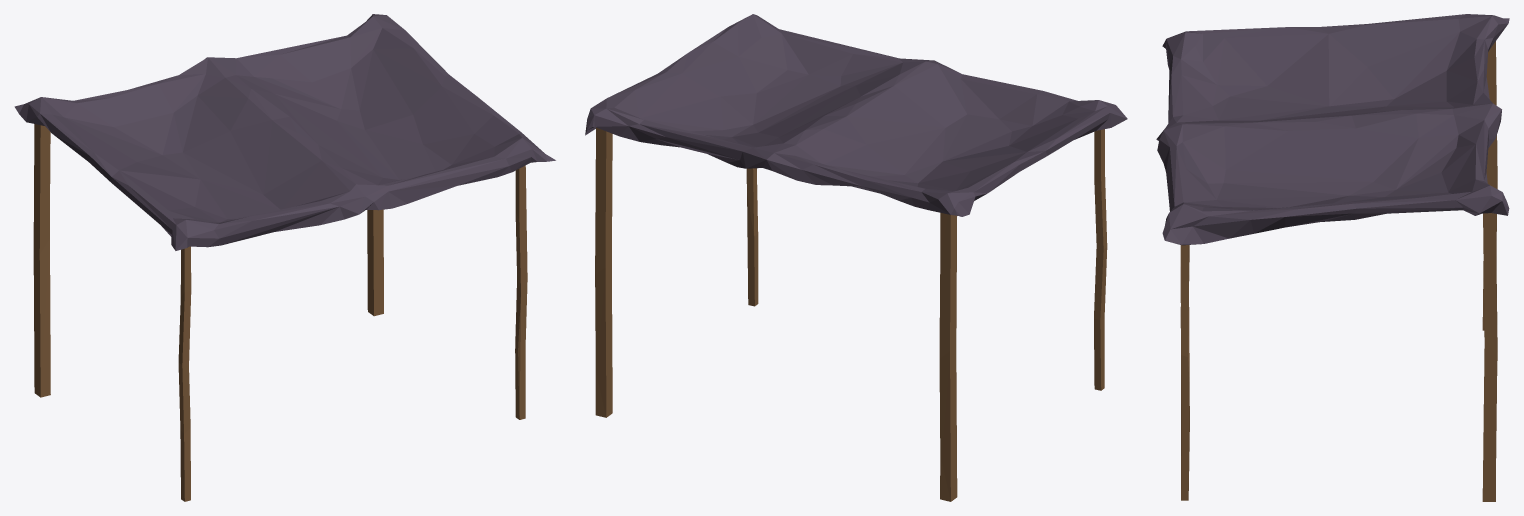
File: Market_Roof_03.fbx
3 renders of one model, left to right at view 1: azimuth 30°, elevation 25°; view 2: azimuth 150°, elevation 25°; view 3: azimuth 270°, elevation 25°, orthographic. The views are drawn at different scales.
Visible parts, largest first — view 1: Market_Roof_03; view 2: Market_Roof_03; view 3: Market_Roof_03.
Boxes of the visible parts, x1,y1,x2,y2 form: Market_Roof_03: [14, 14, 555, 501]; Market_Roof_03: [585, 14, 1127, 501]; Market_Roof_03: [1156, 14, 1509, 501].
Size of the model in its own units: 2.72 by 2.03 by 2.08.
